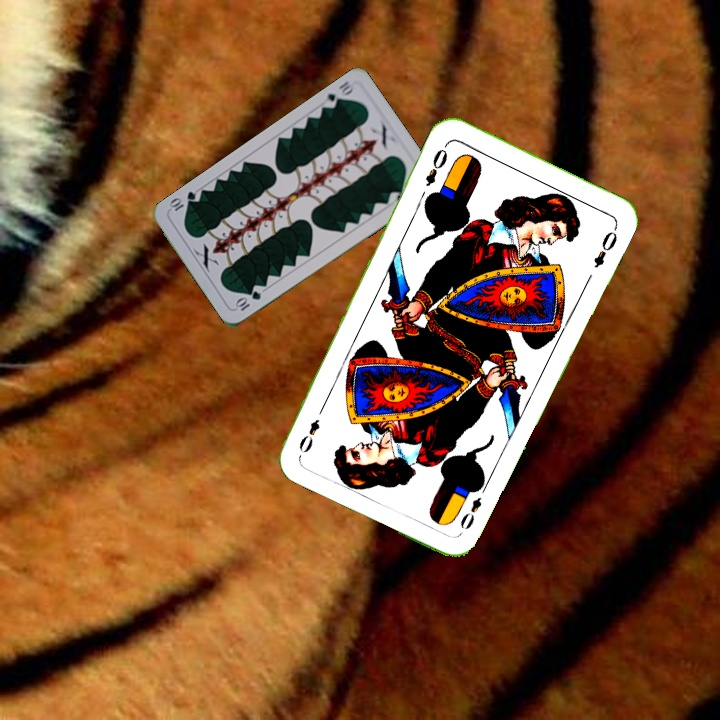EO: (421, 139, 451, 189), (456, 492, 485, 533)
G10: (322, 77, 357, 111), (231, 287, 264, 314)
